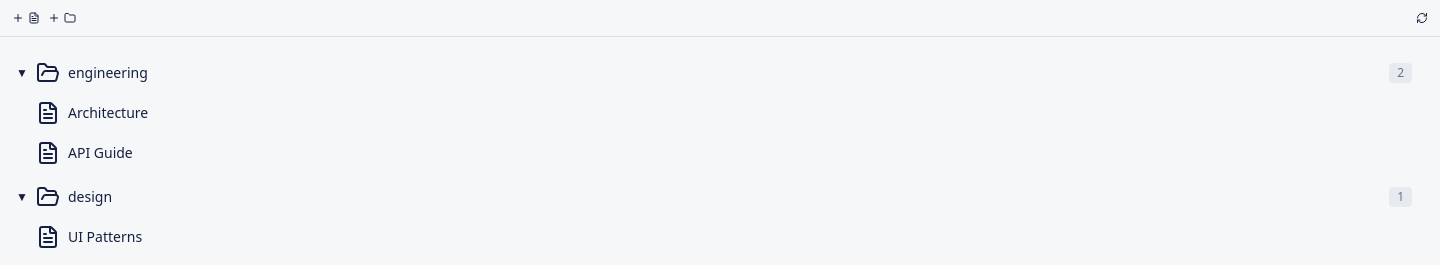
DocumentTree › expand and collapse › re-expands folder when clicked again
Check: the text "Architecture" is shown, box [68, 103, 148, 122]
Click the text "engineering".
click(108, 72)  # box [68, 63, 148, 82]
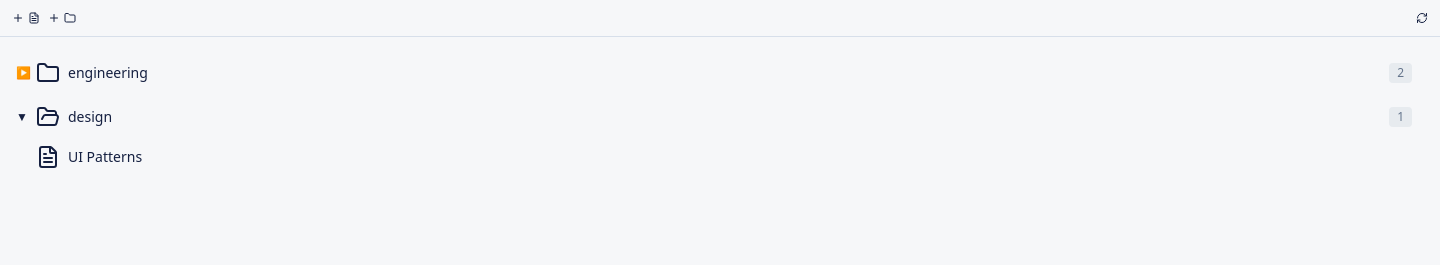
Check: the button "Architecture" is gone
Click the text "engineering".
click(108, 72)  # box [68, 63, 148, 82]
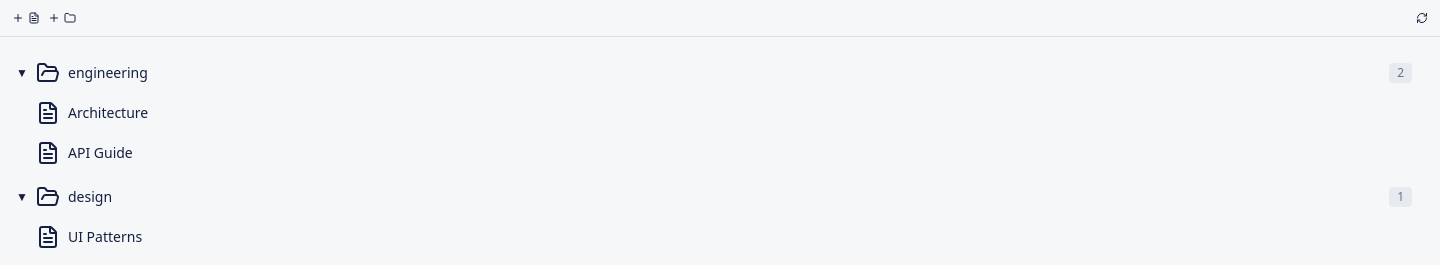
Check: the text "Architecture" is shown, box [68, 103, 148, 122]
Check: the text "API Guide" is shown, box [68, 143, 133, 162]
